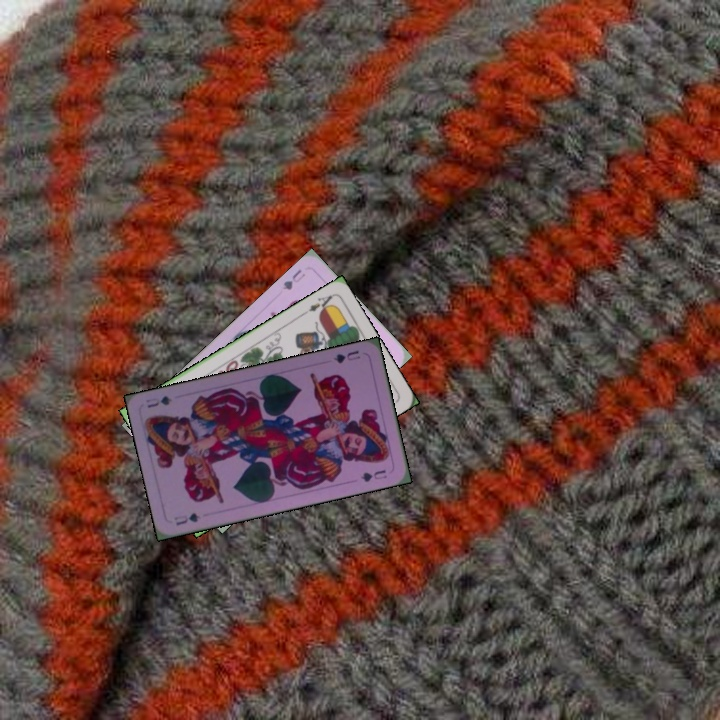EA: (299, 291, 336, 317)
GU: (279, 265, 308, 293), (330, 346, 363, 366), (170, 508, 203, 528)
